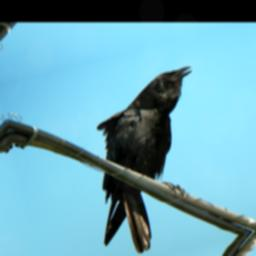Crow: (64, 63, 236, 256)
